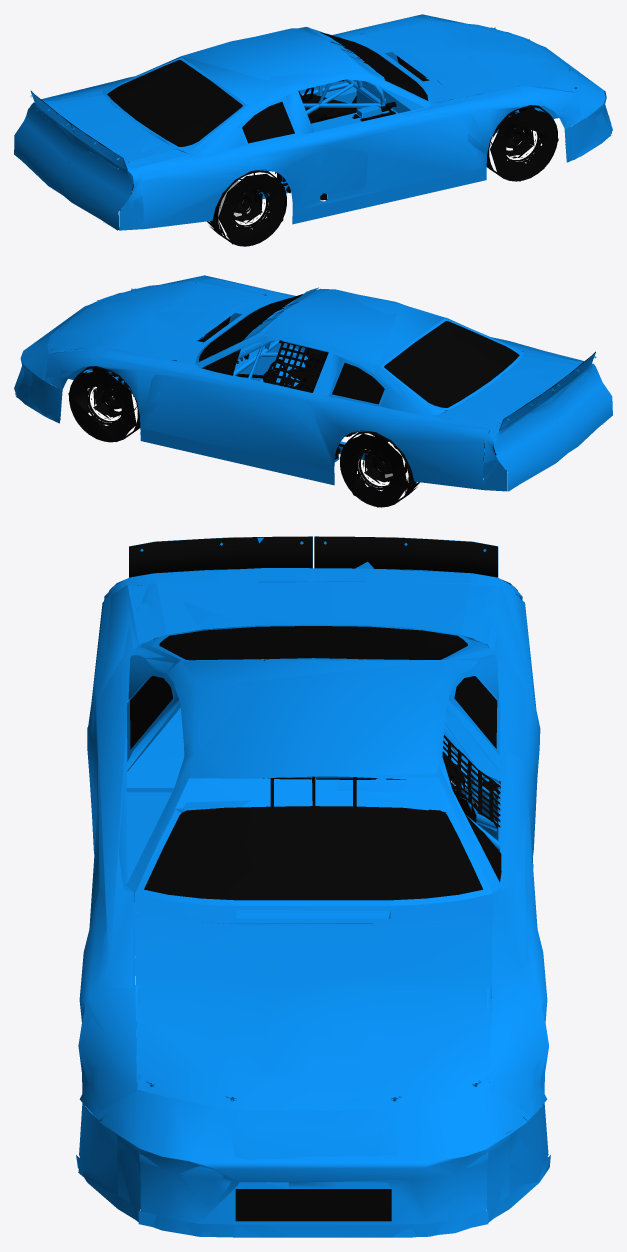
Rendered from veh-stockcar.glb.
3 renders of one model, top to bottom at view 1: azimuth 30°, elevation 25°; view 2: azimuth 150°, elevation 25°; view 3: azimuth 270°, elevation 25°, orthographic. The views are drawn at different scales.
Parts seen in each view (by area): view 1: p0; view 2: p0; view 3: p0.
Boxes of the visible parts, x1,y1,x2,y2 form: p0: (14, 14, 612, 246); p0: (14, 275, 612, 507); p0: (76, 536, 550, 1237).
Size of the model in its own units: 5.14 by 1.21 by 2.02.
